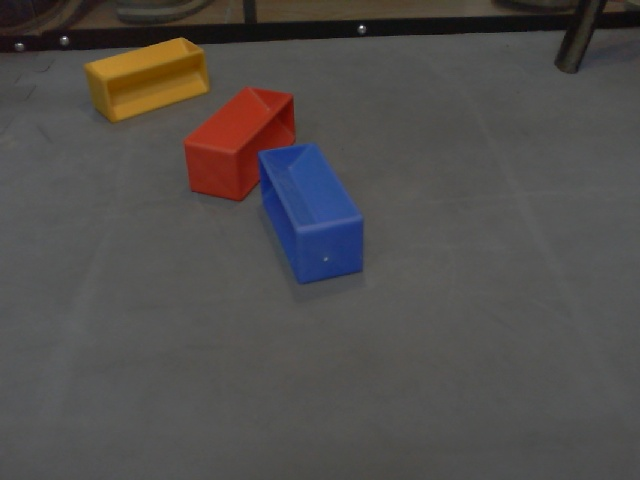BlueSample: (254, 140, 366, 287)
RedSample: (182, 84, 295, 206)
YellowSample: (79, 34, 209, 122)
